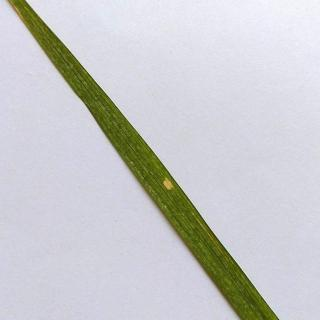Blast: (142, 152, 201, 217)
